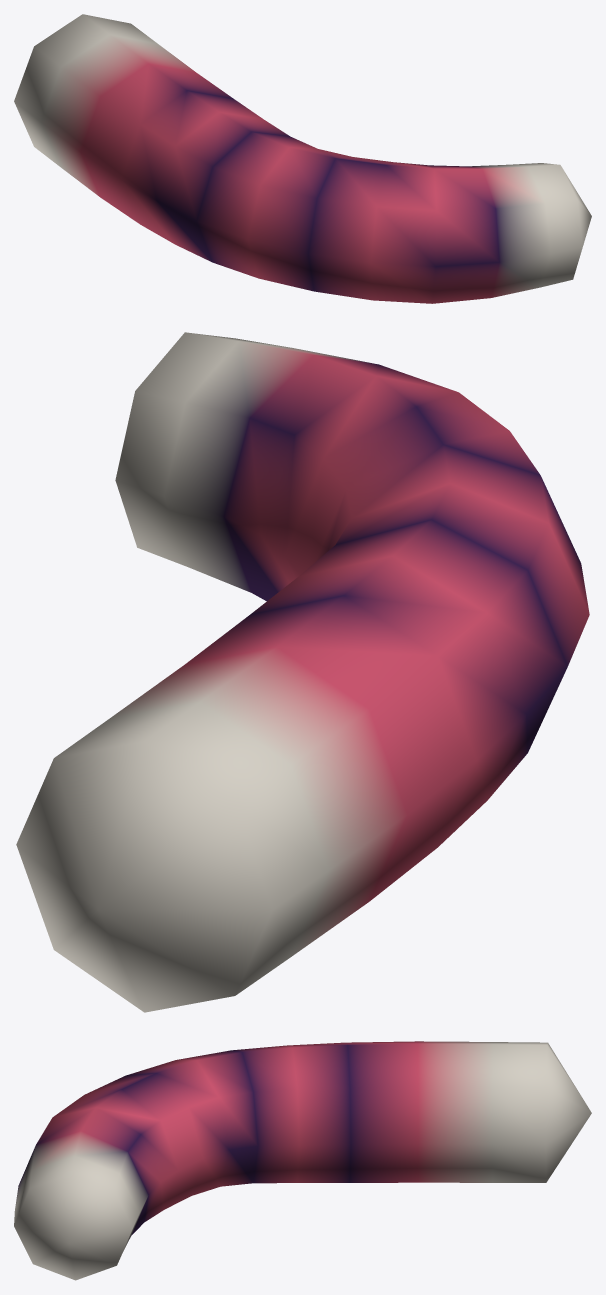
Rendered from sock.glb.
3 renders of one model, top to bottom at view 1: azimuth 30°, elevation 25°; view 2: azimuth 150°, elevation 25°; view 3: azimuth 270°, elevation 25°, orthographic. The views are drawn at different scales.
Parts seen in each view (by area): view 1: sock; view 2: sock; view 3: sock.
Part boxes in pixels (x1=…): sock: x1=14, y1=14, x2=591, y2=303; sock: x1=16, y1=332, x2=589, y2=1012; sock: x1=14, y1=1041, x2=591, y2=1280.
Size of the model in its own units: 0.1452 by 0.0603 by 0.2318.
